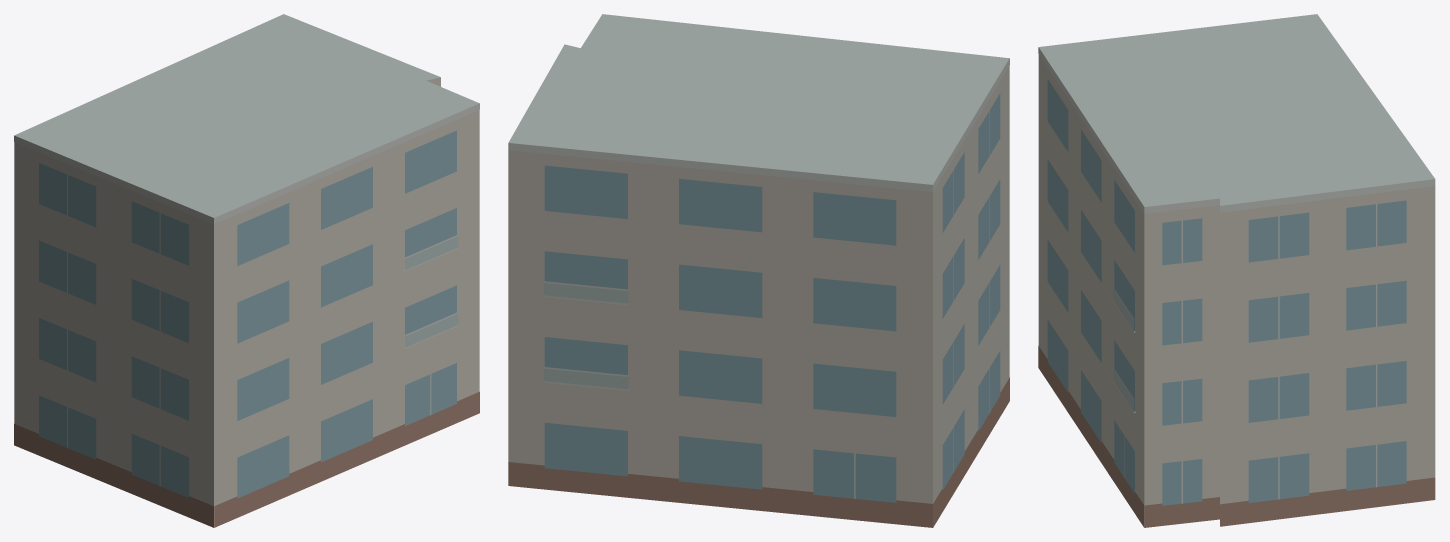
File: survey-upis-32921483.glb
The picture shows the model from 3 angles, left to right: view 1: azimuth 30°, elevation 25°; view 2: azimuth 150°, elevation 25°; view 3: azimuth 270°, elevation 25°; orthographic projection. The views are drawn at different scales.
Visible parts, largest first — view 1: survey-upis-32921483.tmp; view 2: survey-upis-32921483.tmp; view 3: survey-upis-32921483.tmp.
Part boxes in pixels (x1=…): survey-upis-32921483.tmp: x1=14, y1=14, x2=479, y2=527; survey-upis-32921483.tmp: x1=508, y1=14, x2=1009, y2=527; survey-upis-32921483.tmp: x1=1038, y1=14, x2=1435, y2=527.
Bounding box in the file's own units: 15.11 × 11.7 × 13.13.
